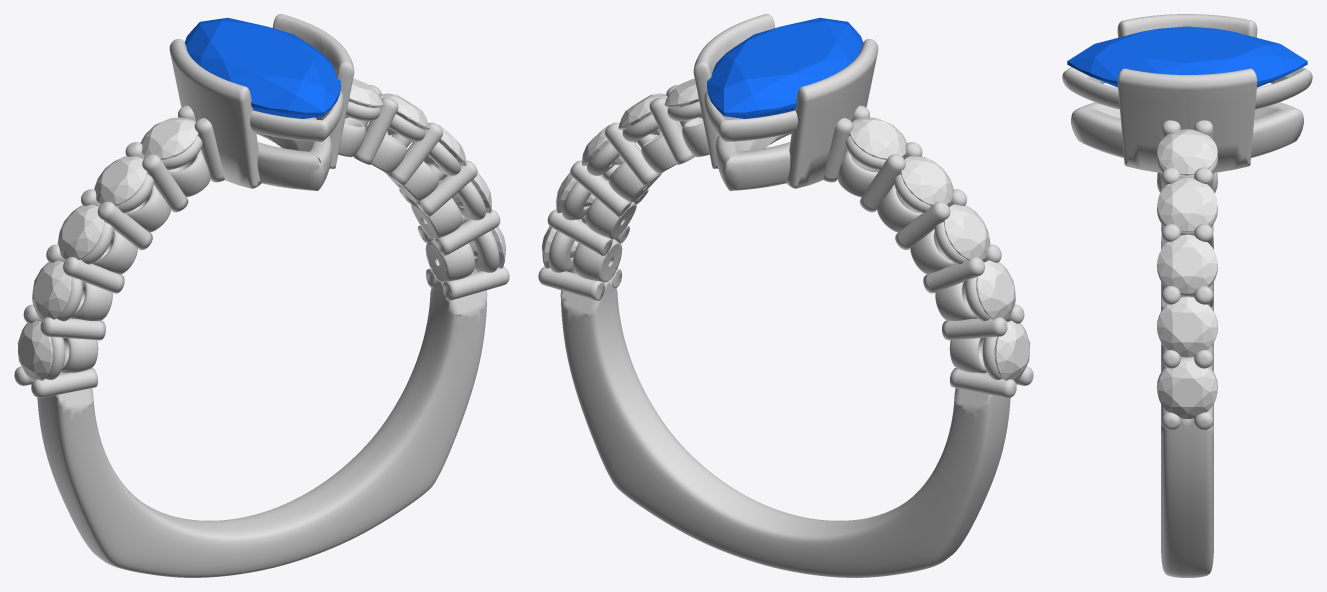
Rendered from bluesapphire-marquise-platinum-halfmoonbezel-europeanshank-11stone.glb.
The picture shows the model from 3 angles, left to right: view 1: azimuth 30°, elevation 25°; view 2: azimuth 150°, elevation 25°; view 3: azimuth 270°, elevation 25°; orthographic projection. The views are drawn at different scales.
Visible parts, largest first — view 1: metal.003, stone.002, side.022, side.023, side.021, side.024, side.020, side.028, side.029; view 2: metal.003, stone.002, side.022, side.023, side.021, side.024, side.020, side.028, side.029; view 3: metal.003, stone.002, side.026, side.027, side.025, side.028, side.029.
Part boxes in pixels (x1,y1,x2,y2): metal.003: [14, 14, 509, 577]; stone.002: [184, 17, 340, 118]; side.022: [57, 204, 104, 259]; side.023: [94, 156, 147, 205]; side.021: [32, 260, 71, 319]; side.024: [140, 117, 198, 159]; side.020: [17, 320, 53, 380]; side.028: [380, 93, 429, 135]; side.029: [345, 78, 383, 118]; metal.003: [538, 14, 1033, 577]; stone.002: [707, 17, 863, 118]; side.022: [943, 204, 990, 259]; side.023: [900, 156, 953, 205]; side.021: [976, 260, 1015, 319]; side.024: [849, 117, 907, 159]; side.020: [994, 320, 1030, 380]; side.028: [618, 93, 667, 135]; side.029: [664, 78, 702, 118]; metal.003: [1062, 14, 1312, 577]; stone.002: [1067, 26, 1307, 87]; side.026: [1157, 297, 1217, 357]; side.027: [1157, 234, 1217, 293]; side.025: [1157, 360, 1217, 418]; side.028: [1157, 177, 1217, 231]; side.029: [1157, 129, 1217, 175].
Bounding box in the file's own units: 22.1 × 22.73 × 10.4.
